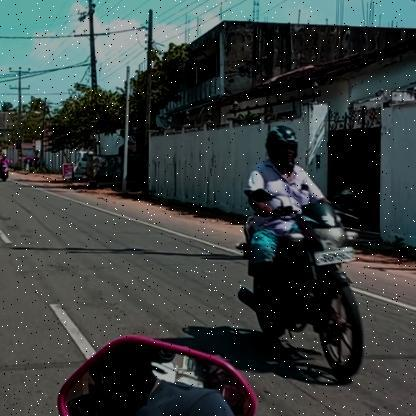motorcycle: (231, 199, 376, 389)
